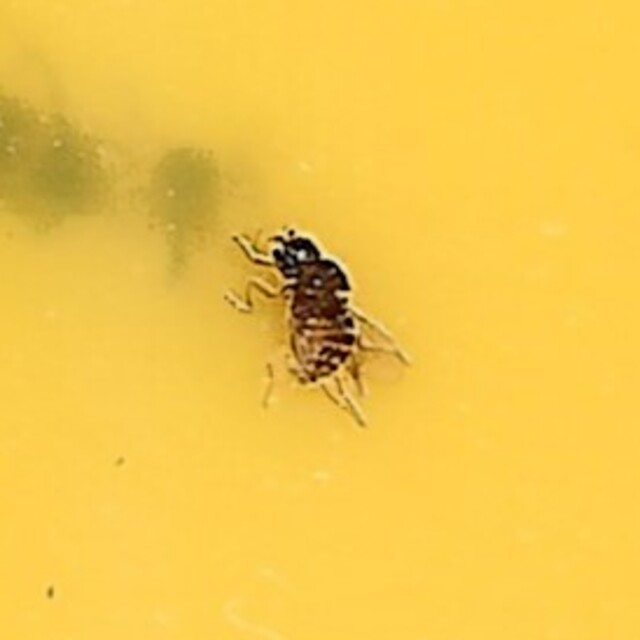Brachycera: (234, 229, 406, 411)
